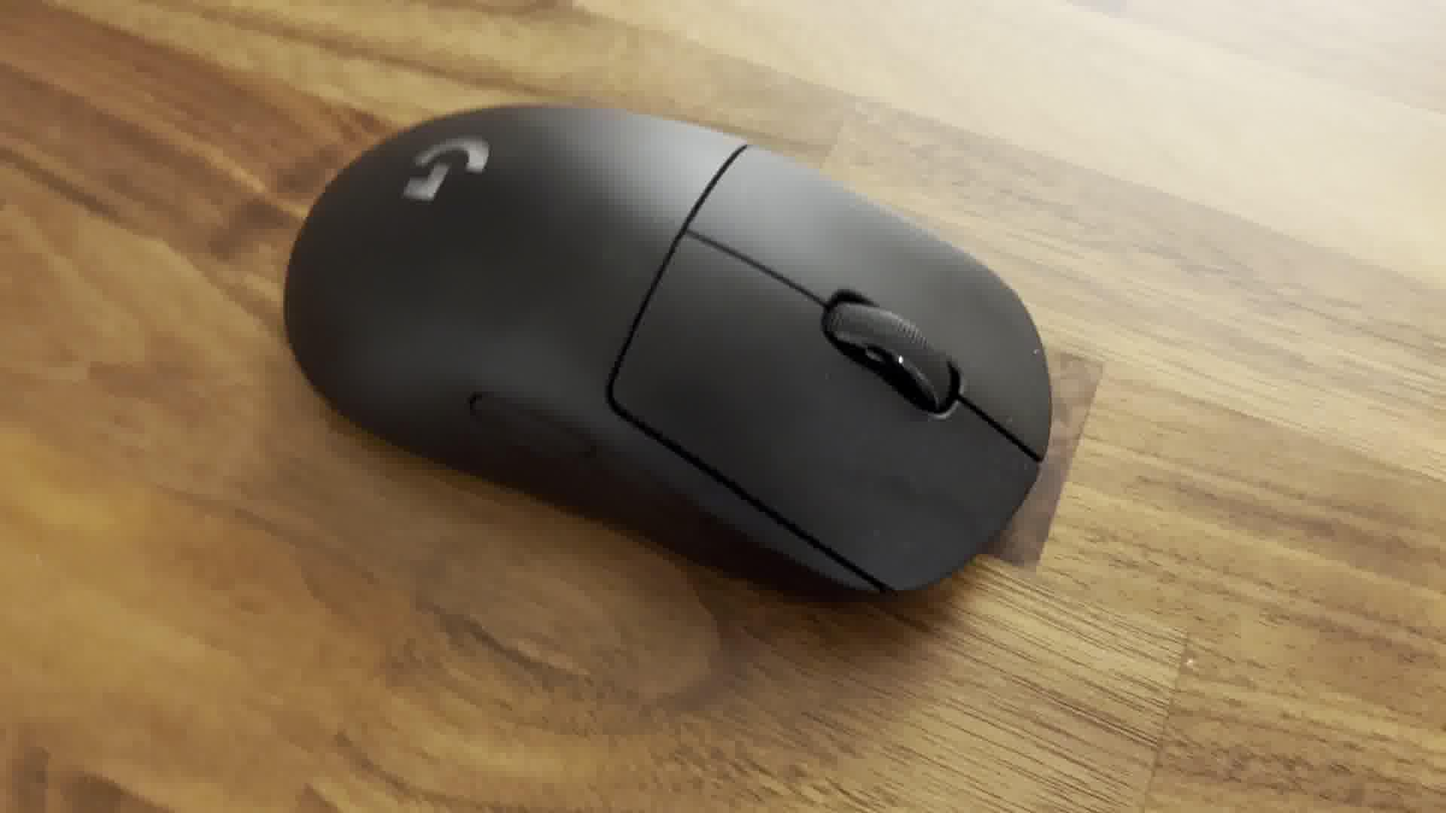logicool: (278, 93, 1060, 620)
